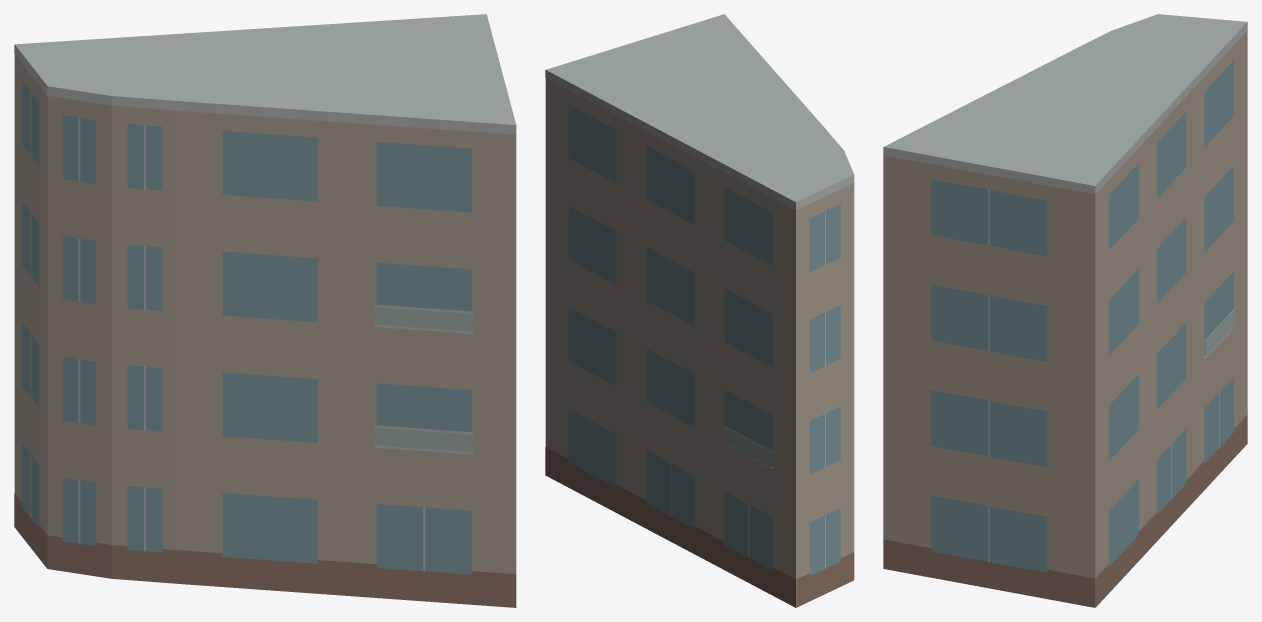
File: survey-upis-32471866.glb
3 renders of one model, left to right at view 1: azimuth 30°, elevation 25°; view 2: azimuth 150°, elevation 25°; view 3: azimuth 270°, elevation 25°, orthographic. The views are drawn at different scales.
Visible parts, largest first — view 1: survey-upis-32471866.tmp; view 2: survey-upis-32471866.tmp; view 3: survey-upis-32471866.tmp.
Boxes of the visible parts, left/top/right/bottom form: survey-upis-32471866.tmp: left=14, top=14, right=516, bottom=607; survey-upis-32471866.tmp: left=545, top=14, right=854, bottom=607; survey-upis-32471866.tmp: left=883, top=14, right=1247, bottom=607.
Bounding box in the file's own units: 10.68 × 12.2 × 9.55.
